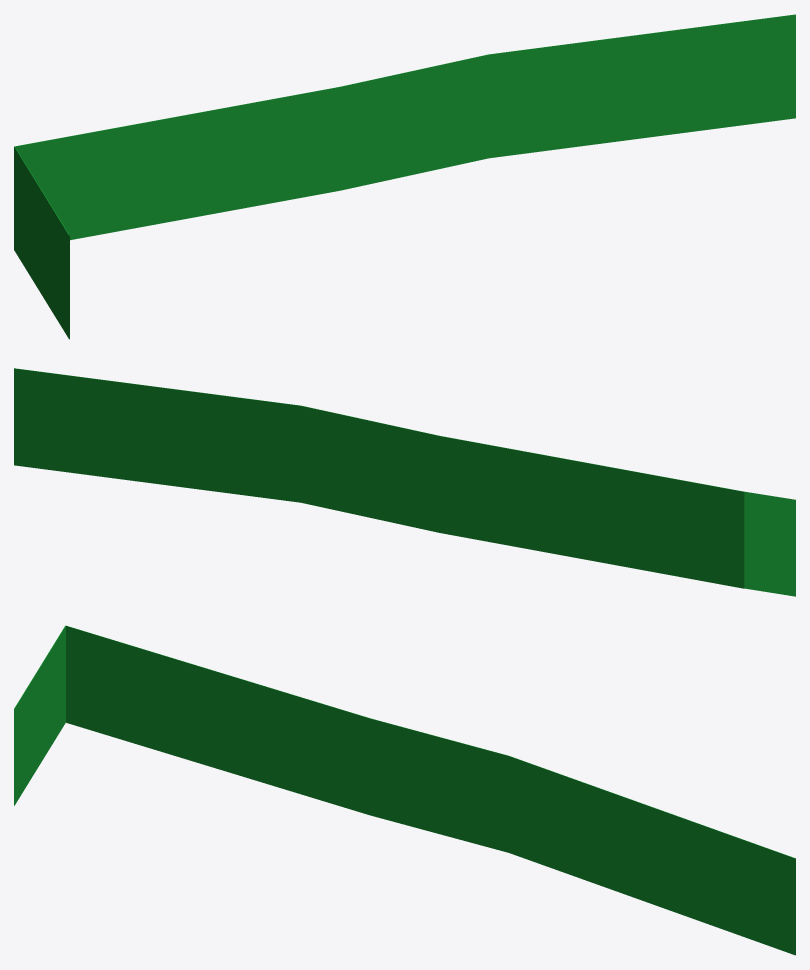
File: Ramp03FenceLower_collider.fbx
The picture shows the model from 3 angles, top to bottom: view 1: azimuth 30°, elevation 25°; view 2: azimuth 150°, elevation 25°; view 3: azimuth 330°, elevation 25°; orthographic projection. The views are drawn at different scales.
Visible parts, largest first — view 1: Ramp03FenceLower_collider; view 2: Ramp03FenceLower_collider; view 3: Ramp03FenceLower_collider.
Boxes of the visible parts, bbox=[...] form: Ramp03FenceLower_collider: bbox=[14, 14, 795, 339]; Ramp03FenceLower_collider: bbox=[14, 368, 795, 596]; Ramp03FenceLower_collider: bbox=[14, 625, 795, 955].
Bounding box in the file's own units: 1054 × 209 × 129.
